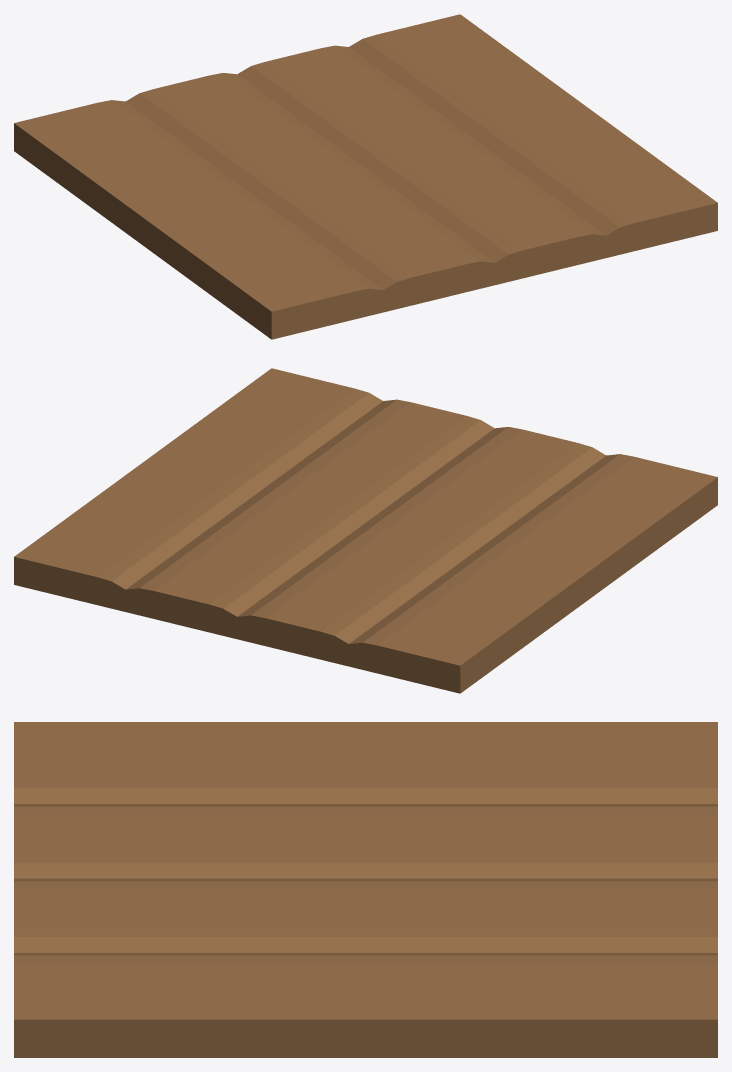
The model's file is soil_empty.fbx.
3 views of the same model, one above another, from view 1: azimuth 30°, elevation 25°; view 2: azimuth 150°, elevation 25°; view 3: azimuth 270°, elevation 25° (orthographic). The views are drawn at different scales.
Visible parts, largest first — view 1: soil_empty; view 2: soil_empty; view 3: soil_empty.
Part boxes in pixels (x1,y1,x2,y2): soil_empty: (14, 14, 717, 339); soil_empty: (14, 368, 717, 693); soil_empty: (14, 722, 717, 1057).
Size of the model in its own units: 1 by 0.06 by 1.
1 material, 1 textured.
